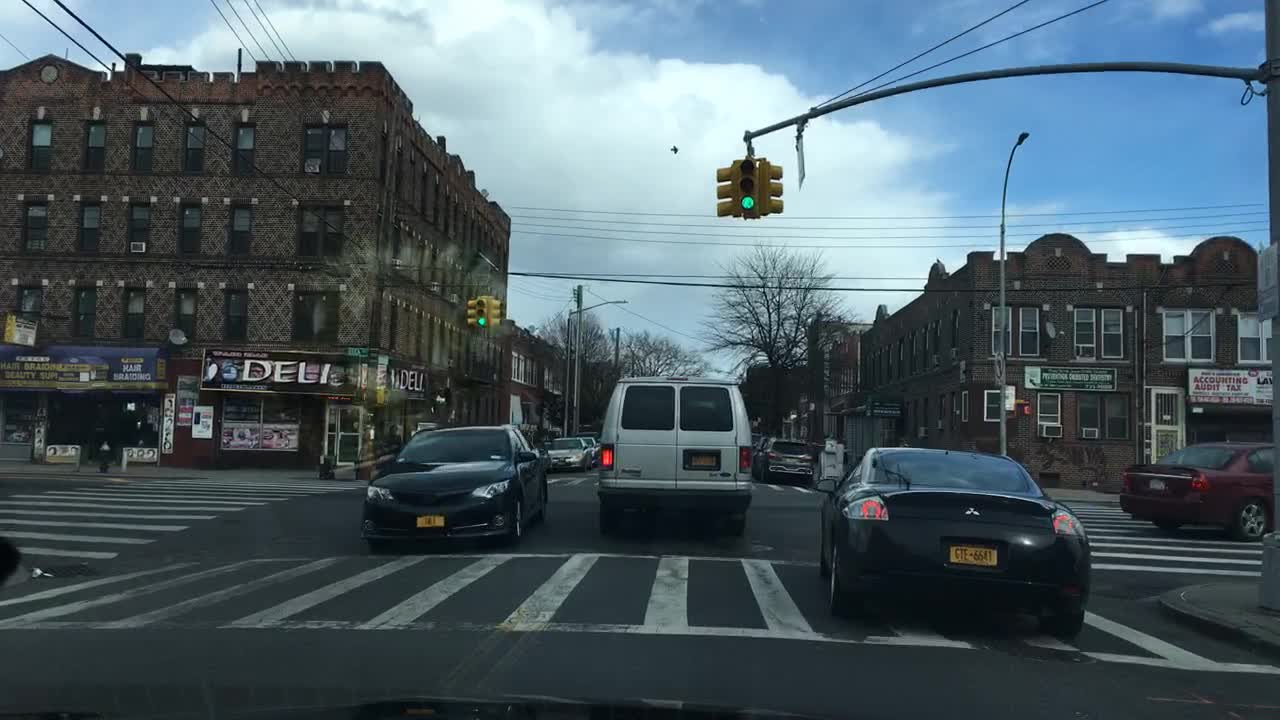car: (819, 444, 1091, 642), (593, 373, 756, 539), (357, 422, 550, 549), (1118, 439, 1273, 535), (754, 437, 817, 483), (544, 439, 590, 472), (581, 437, 602, 458)
traffic light: (759, 153, 782, 218), (737, 155, 758, 216), (716, 155, 735, 218), (490, 295, 504, 331), (460, 300, 473, 331), (474, 296, 485, 330), (1016, 400, 1034, 417), (377, 389, 386, 403)
traffic sign: (796, 137, 802, 186), (1005, 385, 1012, 413), (348, 348, 369, 356)
